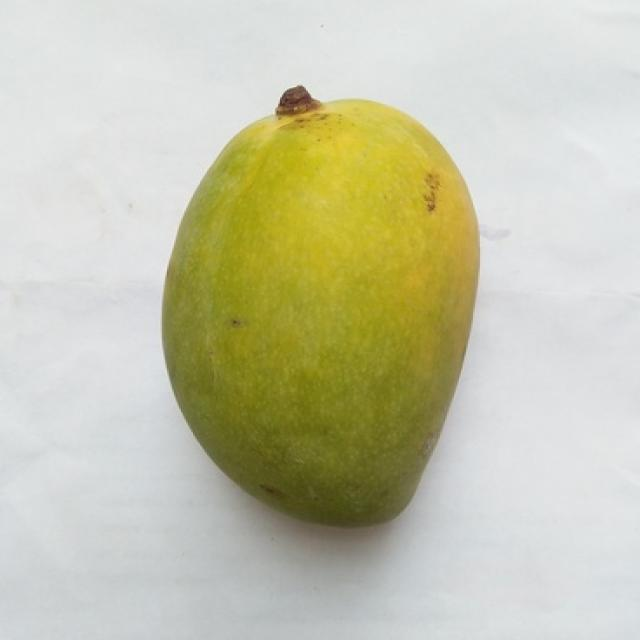Mango: (162, 88, 477, 525)
